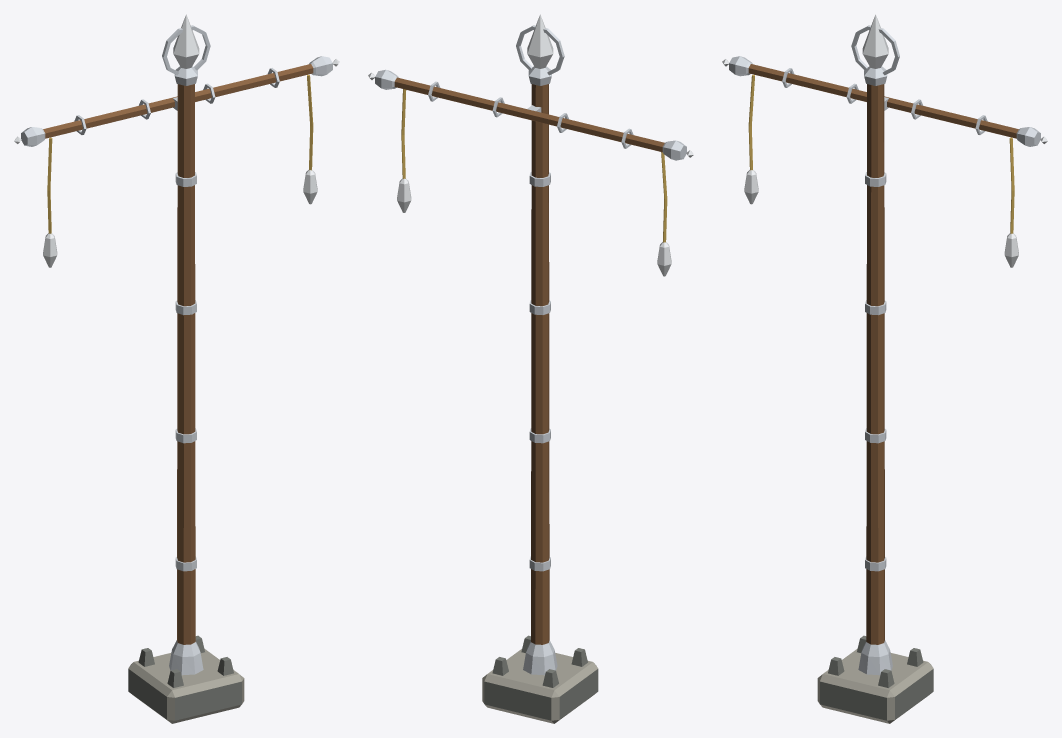
The model's file is BannerStandardFrame.obj.
3 views of the same model, side by side, from view 1: azimuth 30°, elevation 25°; view 2: azimuth 150°, elevation 25°; view 3: azimuth 330°, elevation 25° (orthographic).
Bounding box in the file's own units: 5.06 × 10.2 × 1.2.
